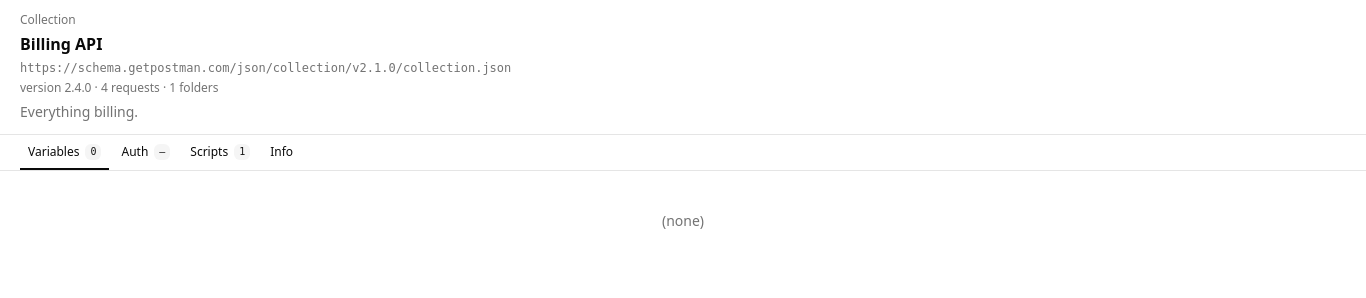
Test: CollectionDetail — auth and scripts (FR-039) › shows the collection scripts with the "never runs them" notice
This screenshot has width=1366, height=298.
Step 1. Click the tab with test id "collection-tab-scripts" → (220, 152), box top-left (182, 135), bottom-right (258, 170)
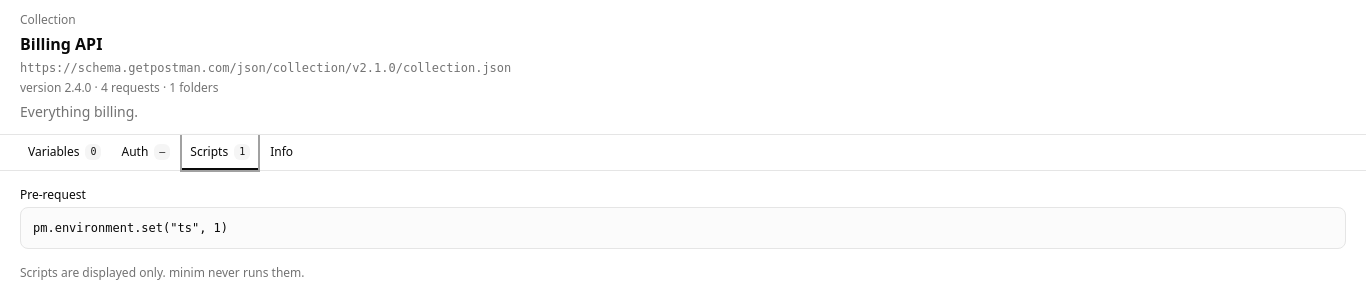
Result: the text with test id "script-source" shows "pm.environment.set" at top-left (33, 221), bottom-right (228, 235)
Result: the text with test id "script-notice" shows "minim never runs them" at top-left (20, 264), bottom-right (304, 281)
